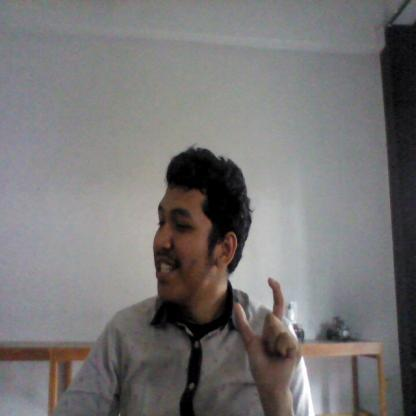U: (233, 276, 306, 394)
